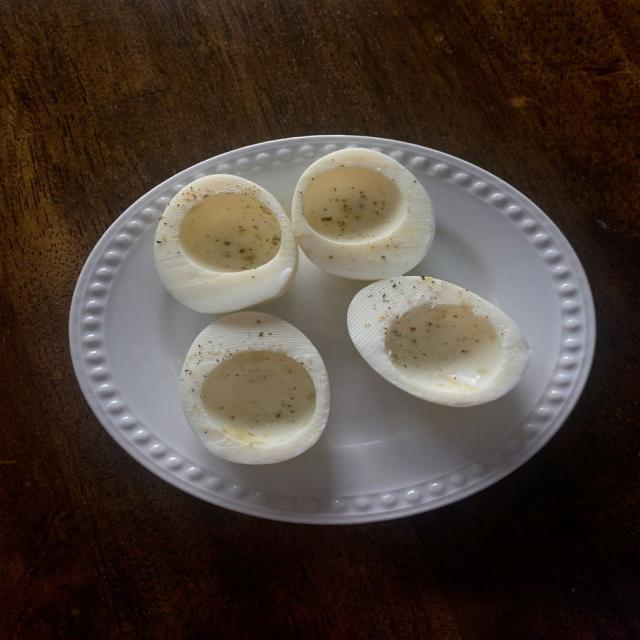egg boiled: (348, 277, 529, 406), (180, 311, 328, 464), (154, 174, 297, 313), (292, 148, 434, 279)
